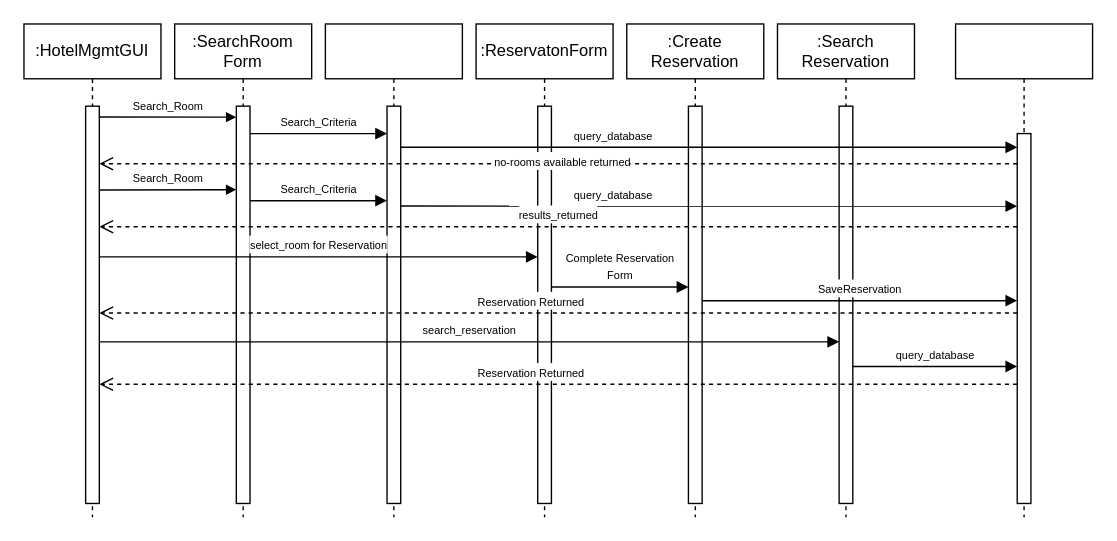
This 1117x541 diagram has some shape labels left out. The box of each missing label's shape, as (x1, y1, x2, y2) in pixels:
:Database: (954, 23, 1093, 517)
:Search: (324, 23, 462, 517)
